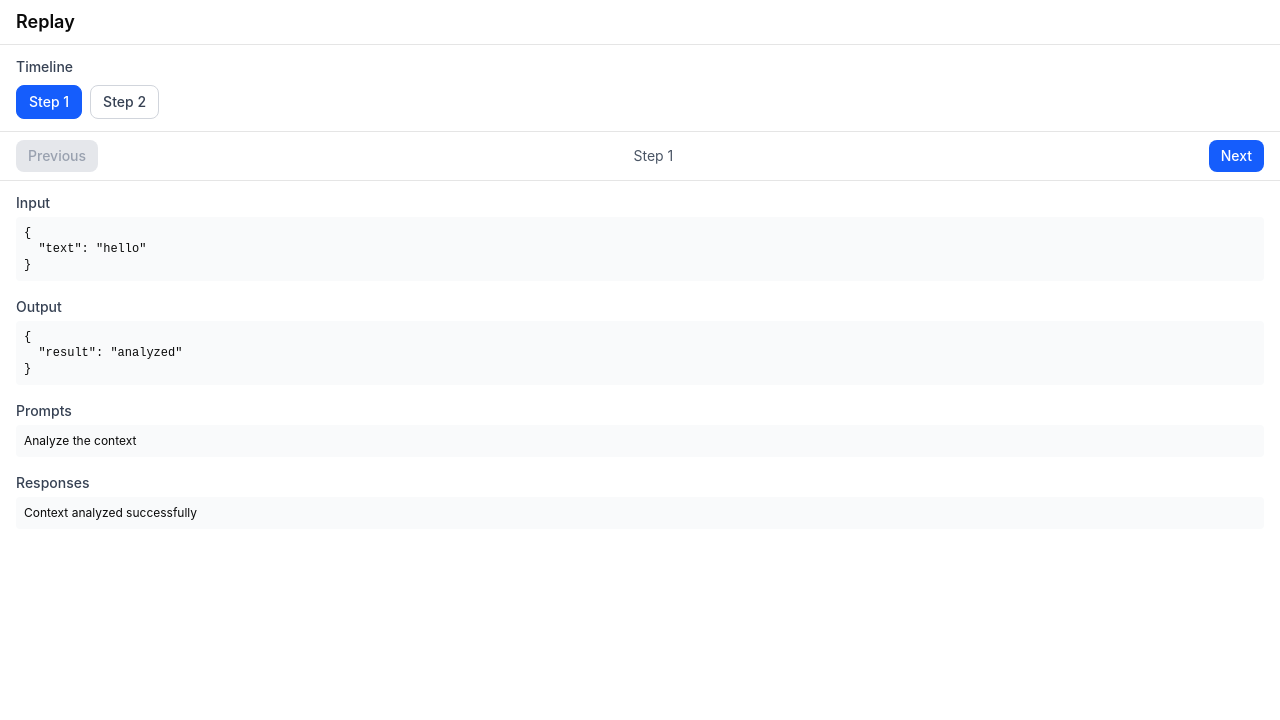
Test: ReplayViewer › Previous/Next navigation works
This screenshot has width=1280, height=720.
Expected: the element with test id "replay-navigation" is shown, [0, 132, 1279, 181]
Expected: the button with test id "replay-previous" is disabled, [16, 140, 98, 172]
Click Next to go to step 2
Click the button with test id "replay-next": coordinates (1236, 156) [1209, 140, 1264, 172]
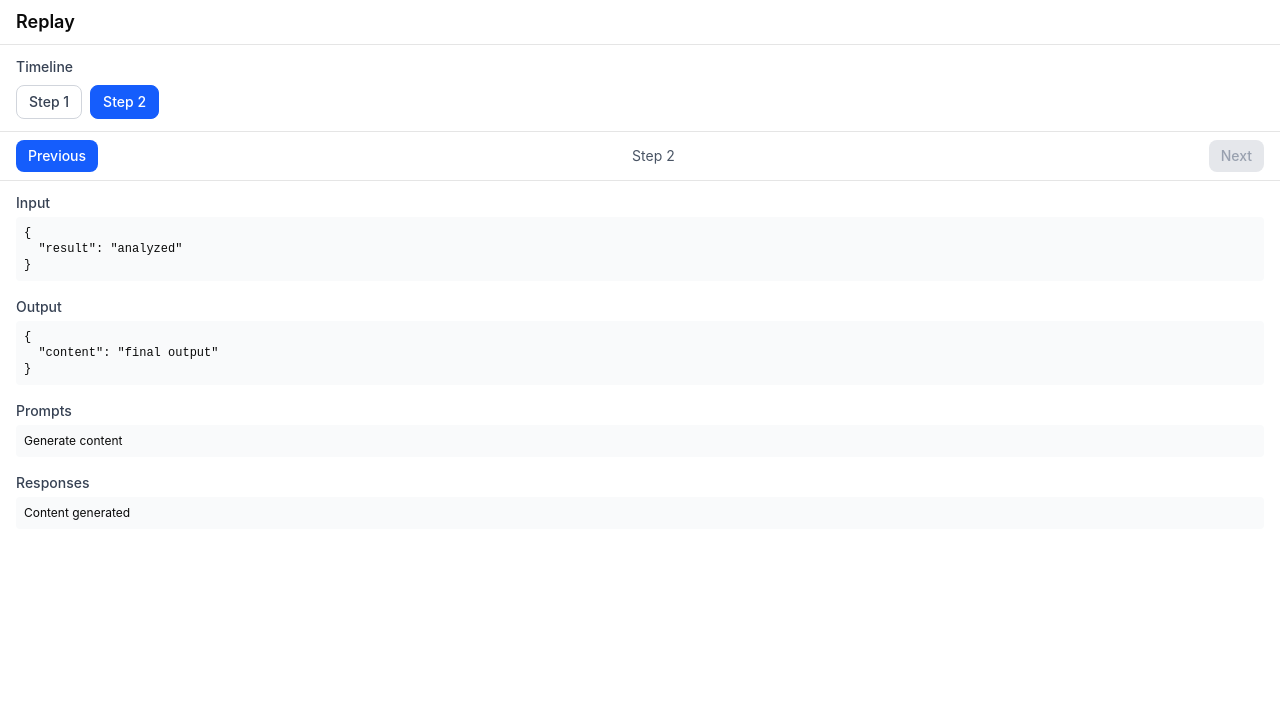
Expected: the element with test id "step-input" shows "analyzed", [24, 226, 182, 272]
Expected: the element with test id "step-output" shows "final output", [24, 330, 218, 376]
Expected: the element with test id "step-prompts" shows "Generate content", [24, 433, 122, 448]
Click Previous to go back to step 1
Click the button with test id "replay-previous": coordinates (57, 156) [16, 140, 98, 172]
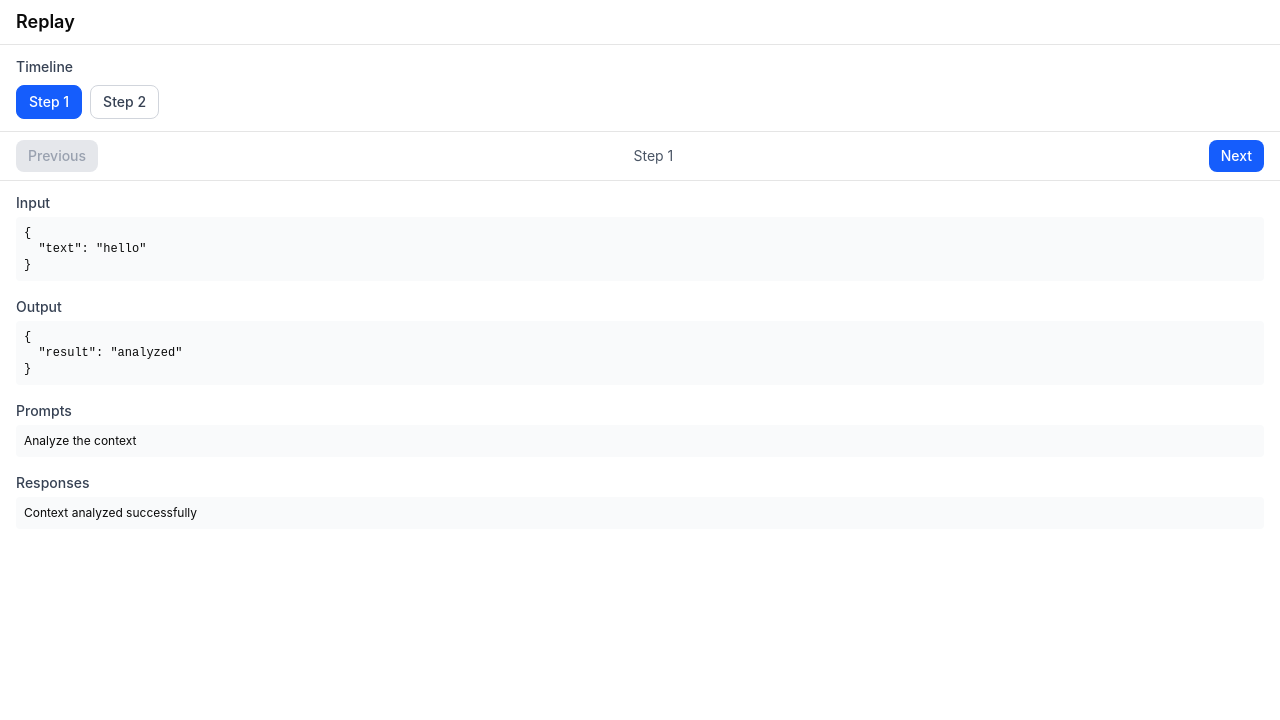
Expected: the element with test id "step-input" shows "hello", [24, 226, 146, 272]
